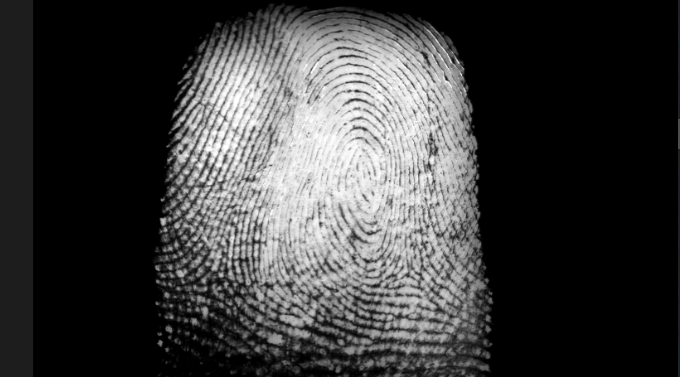nucelo: (351, 145, 384, 200)
verticilo: (392, 257, 420, 284), (197, 262, 218, 292)
